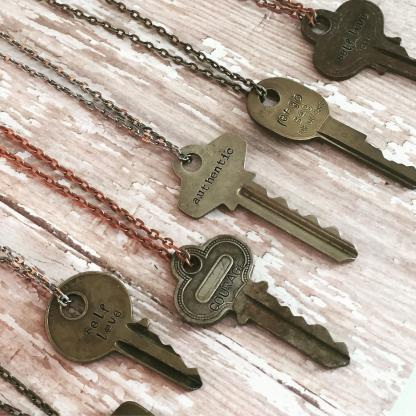key: (170, 133, 359, 271), (166, 235, 354, 371), (42, 268, 204, 404), (236, 76, 411, 182), (296, 1, 410, 92)
